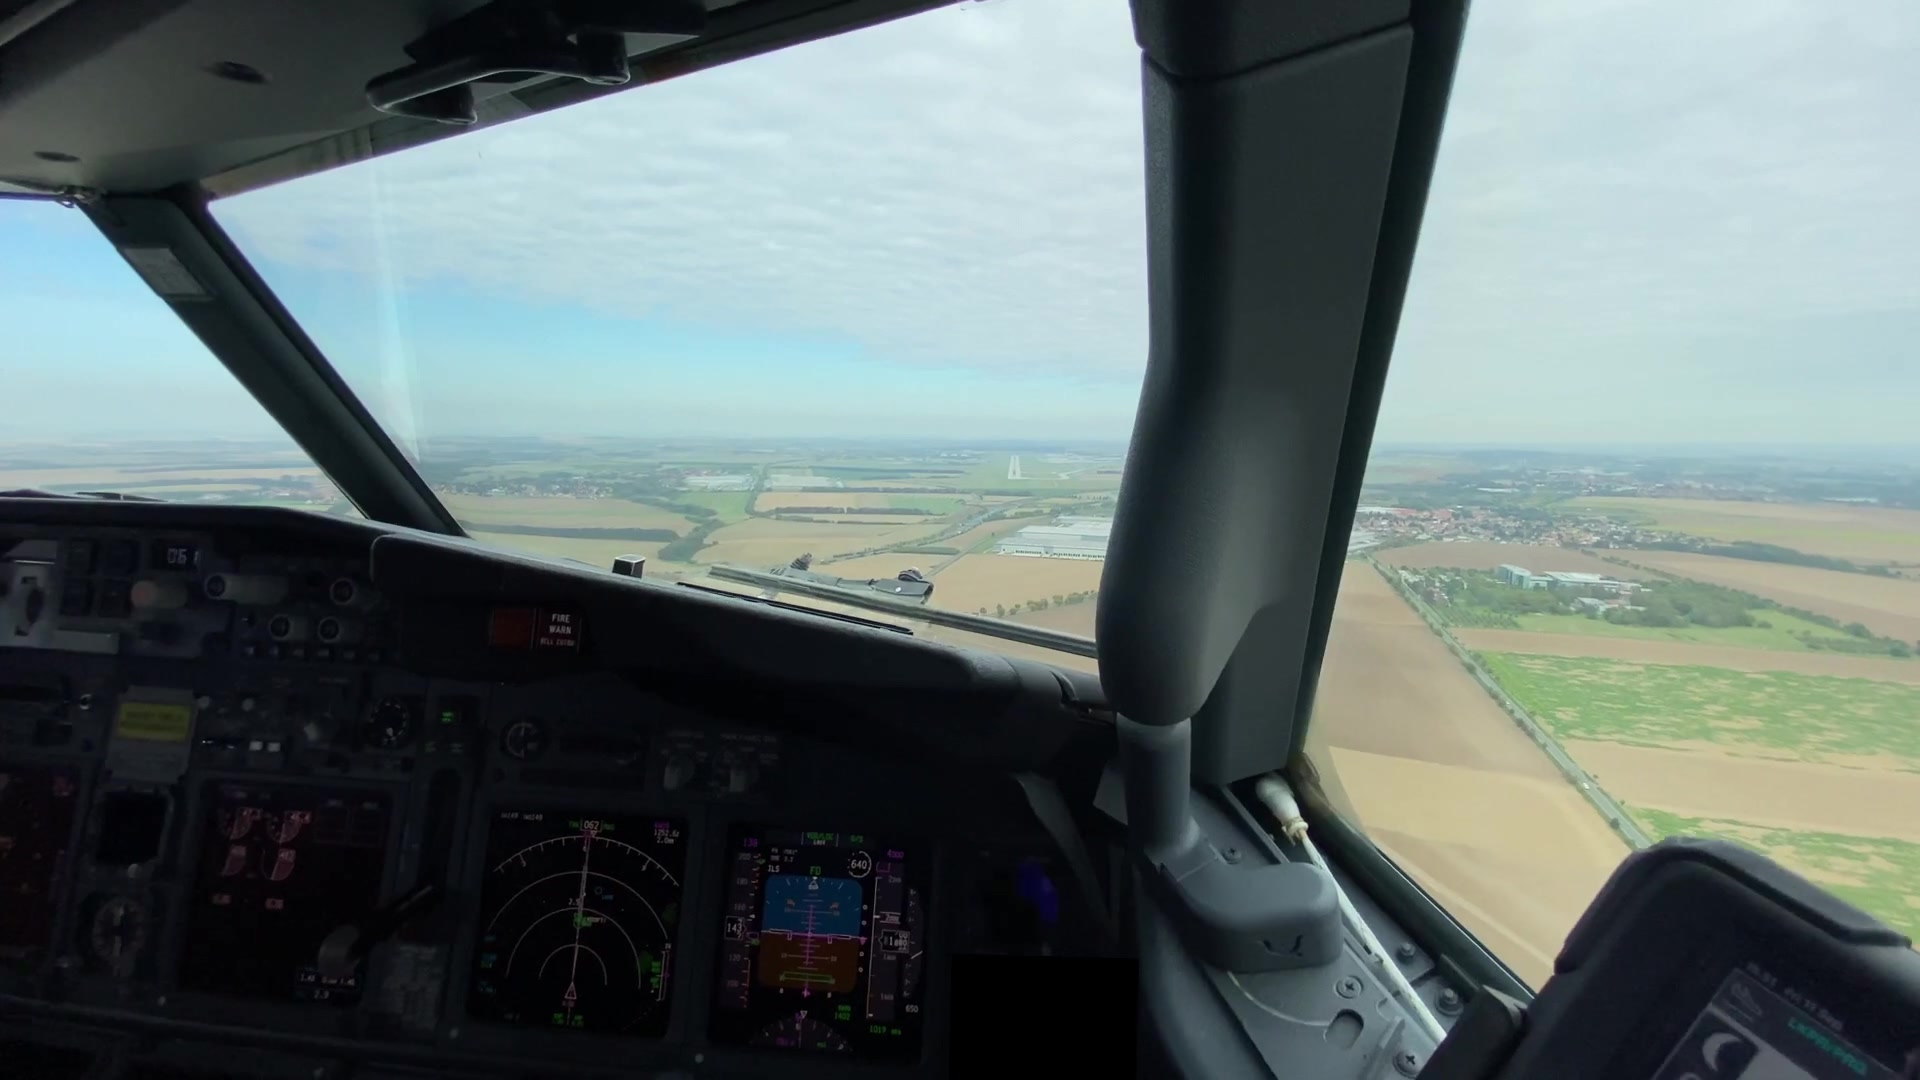runway: (1004, 454, 1026, 481)
